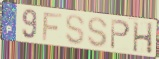9: (21, 8, 38, 42)
F: (41, 12, 63, 43)
H: (132, 21, 155, 56)
P: (109, 18, 131, 51)
S: (87, 16, 109, 49), (64, 14, 86, 46)
